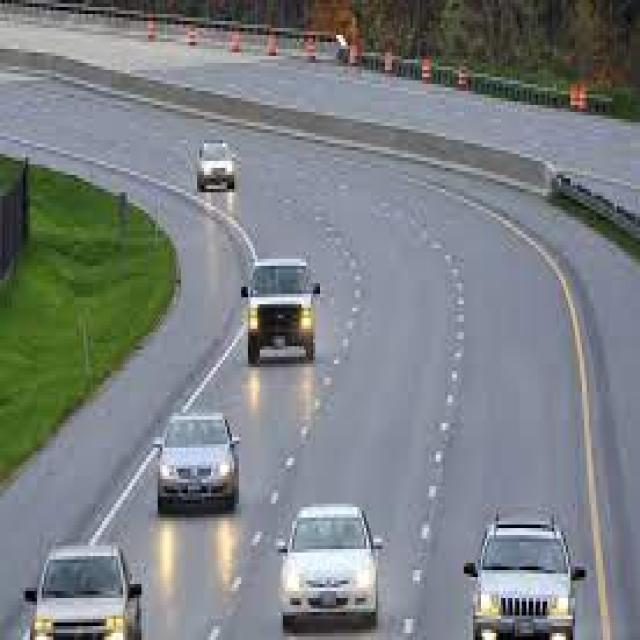vehicle: (448, 444, 633, 640), (274, 449, 402, 640), (102, 381, 266, 522), (216, 244, 347, 390), (0, 529, 165, 640), (183, 127, 262, 199)
